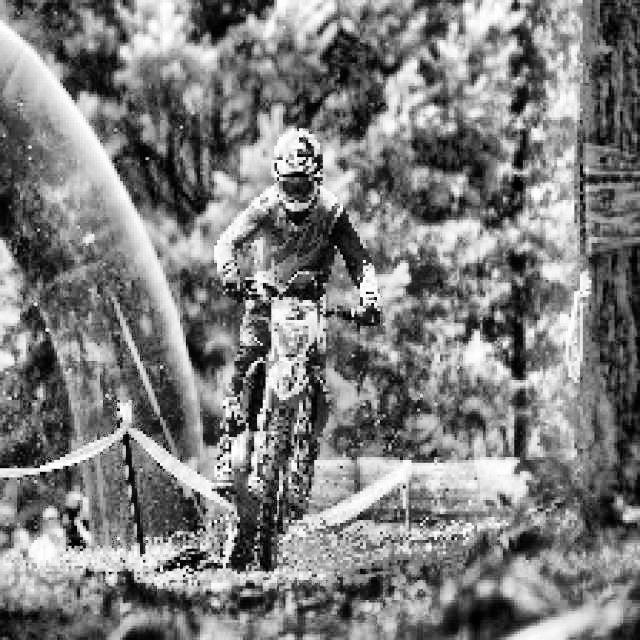motorcycle: (205, 262, 387, 584)
